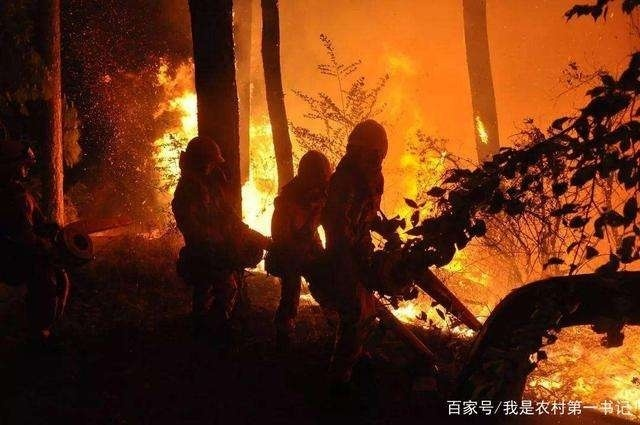fire: (524, 311, 640, 421), (149, 57, 198, 199), (238, 117, 281, 235)
